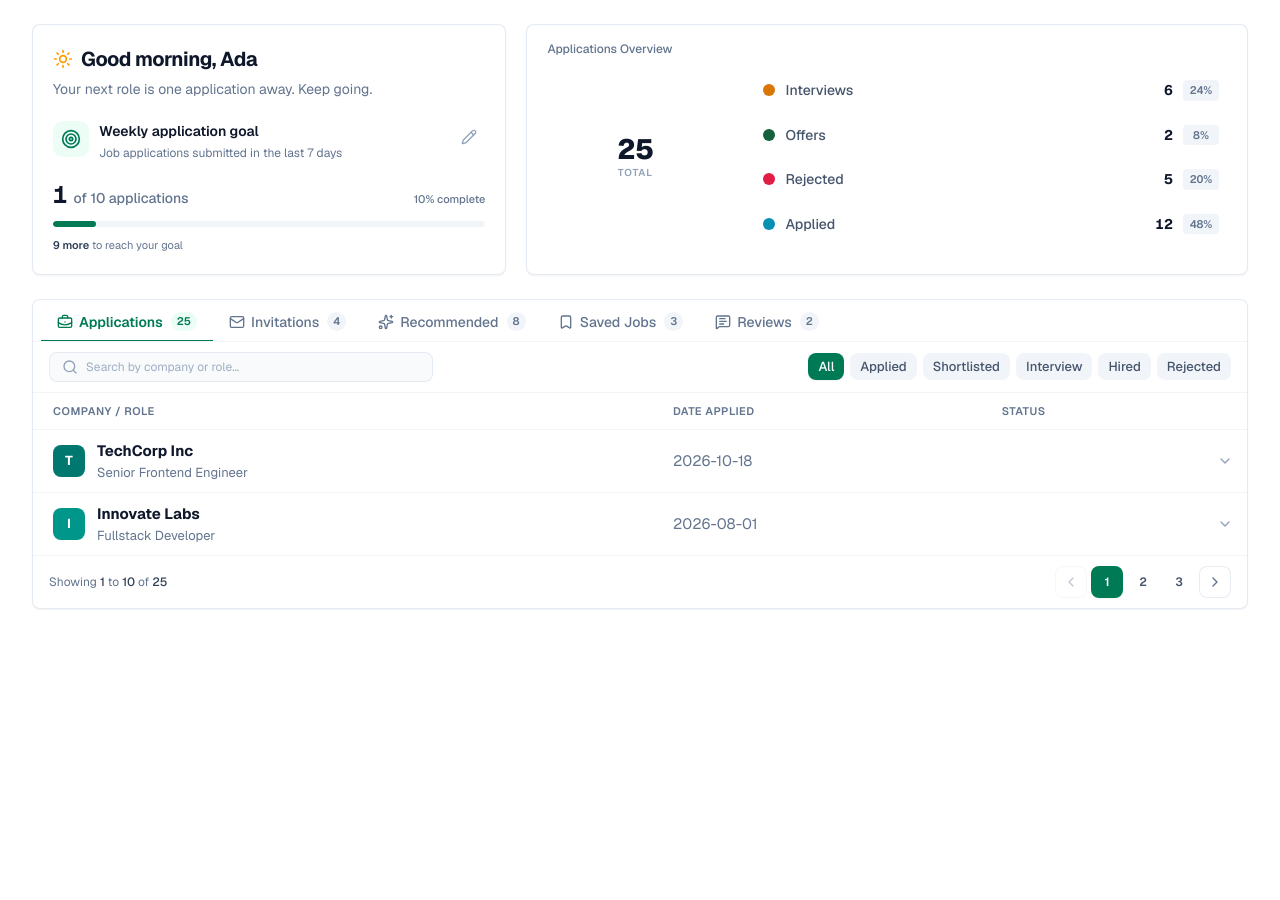
it: TalentDashboard Component › allows user to dynamically configure weekly goal and persists to localStorage
expect the text "of 10 applications" is shown: met, box [73,188,188,208]
# Click edit button
Click the button named "Edit weekly goal": (469, 137) [453,121,485,153]
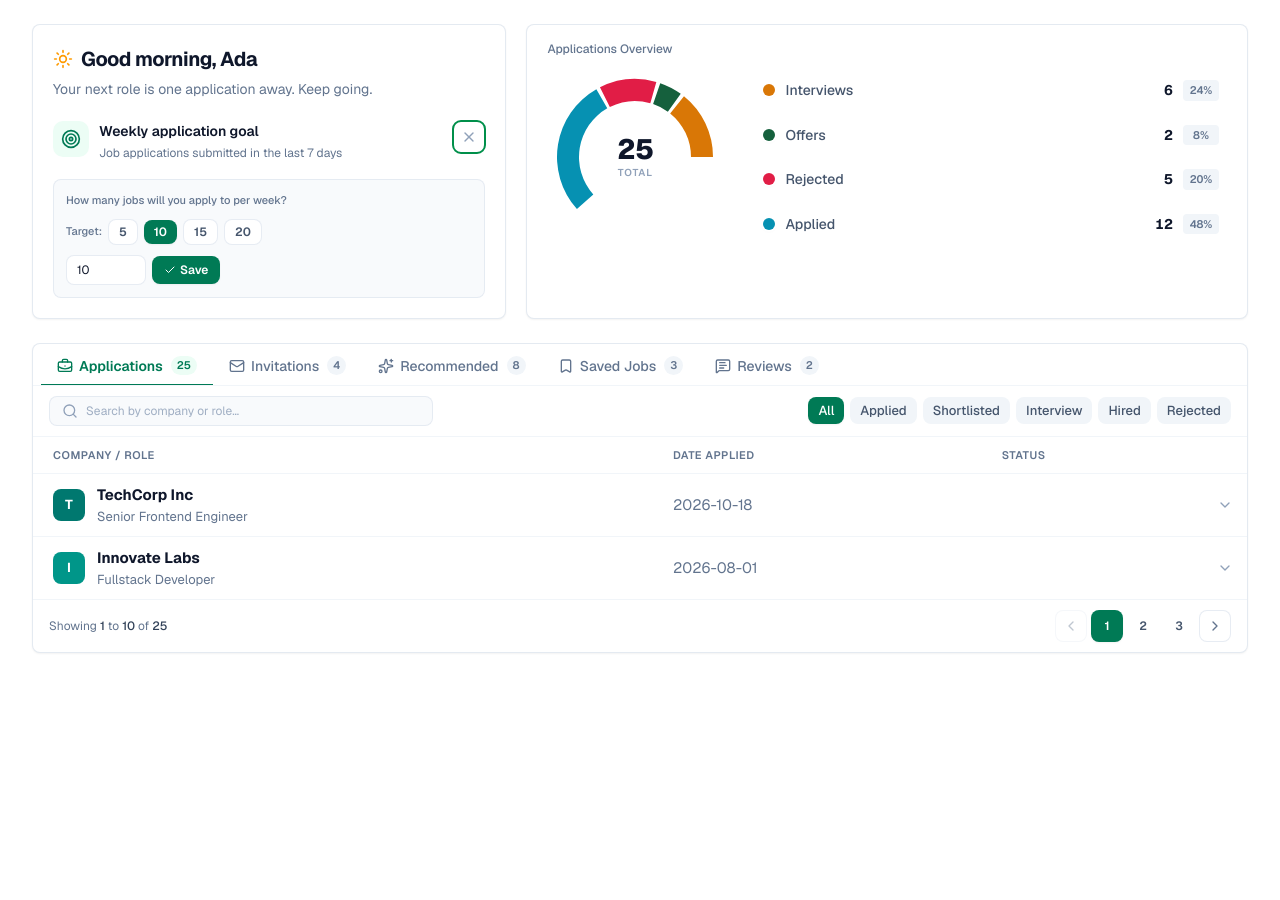
expect the button "15" is shown: met
# Click preset 15
Click the button "15": (200, 232) [183,218,218,244]
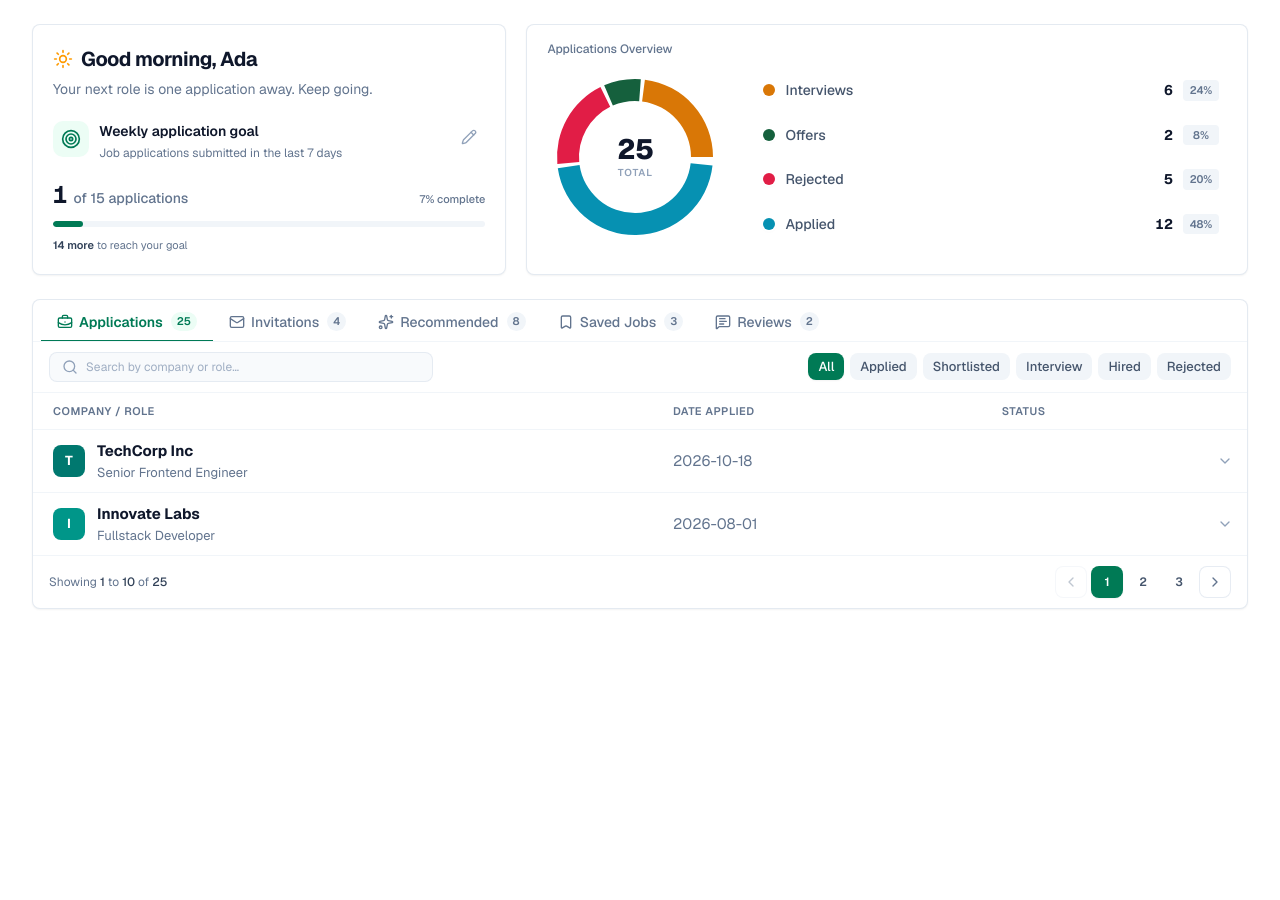
expect the text "of 15 applications" is shown: met, box [73,188,188,208]
